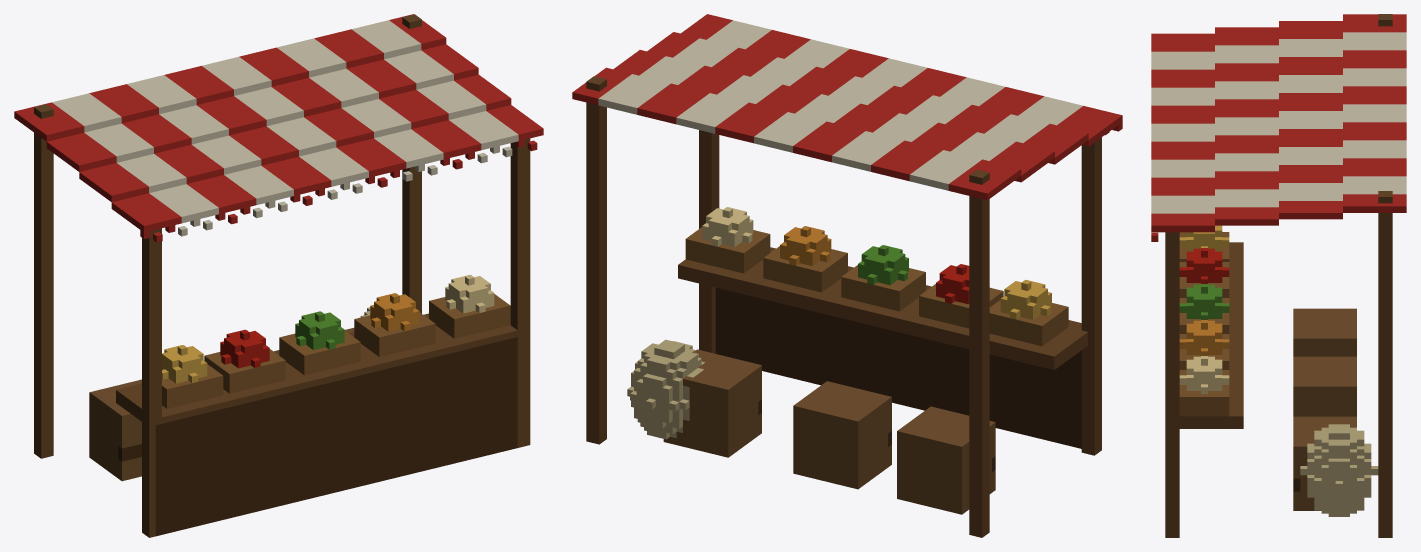
File: stall_provisioner.glb
3 renders of one model, left to right at view 1: azimuth 30°, elevation 25°; view 2: azimuth 150°, elevation 25°; view 3: azimuth 270°, elevation 25°, orthographic. The views are drawn at different scales.
Parts seen in each view (by area): view 1: stall_provisioner; view 2: stall_provisioner; view 3: stall_provisioner.
Boxes of the visible parts, x1,y1,x2,y2 form: stall_provisioner: (14, 14, 543, 537); stall_provisioner: (572, 14, 1122, 537); stall_provisioner: (1151, 14, 1406, 537).
Bounding box in the file's own units: 3.2 × 2.65 × 1.8.
